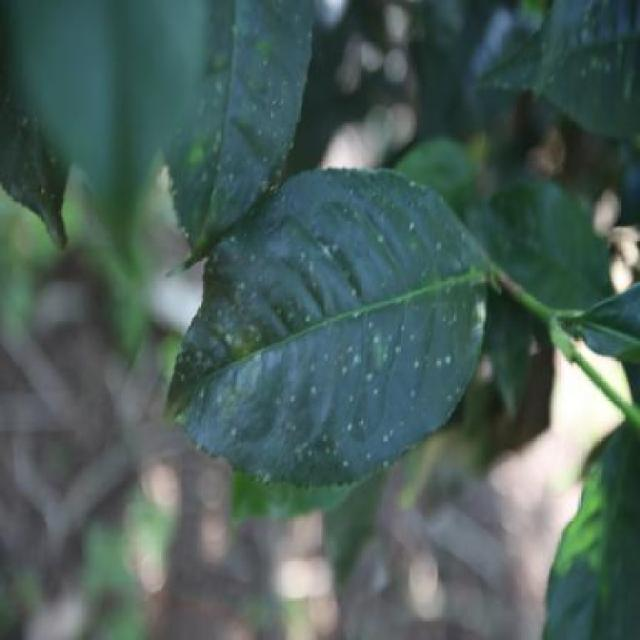White spot of tea: (174, 166, 489, 526)
